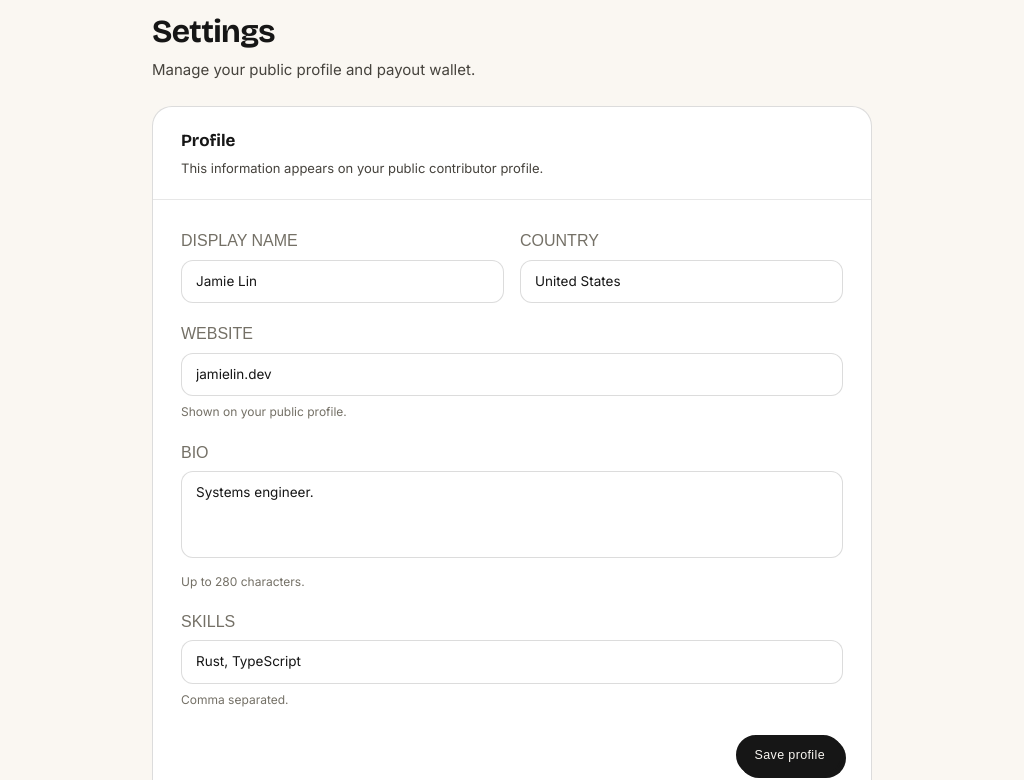
Profile form validation › rejects a malformed website
Replace the text in the field labelled "Website" with "not a url" at point(512, 375), box x1=181 y1=353 x2=843 y2=396
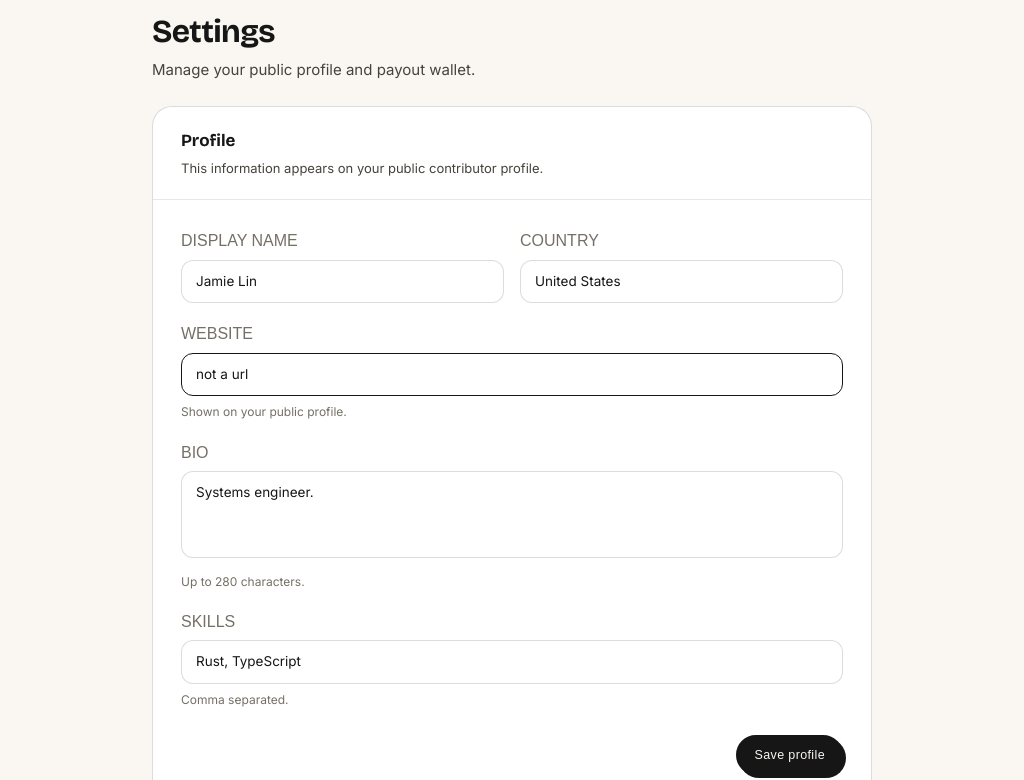
Click the button "Save profile" at point(790, 755), box x1=736 y1=735 x2=843 y2=775
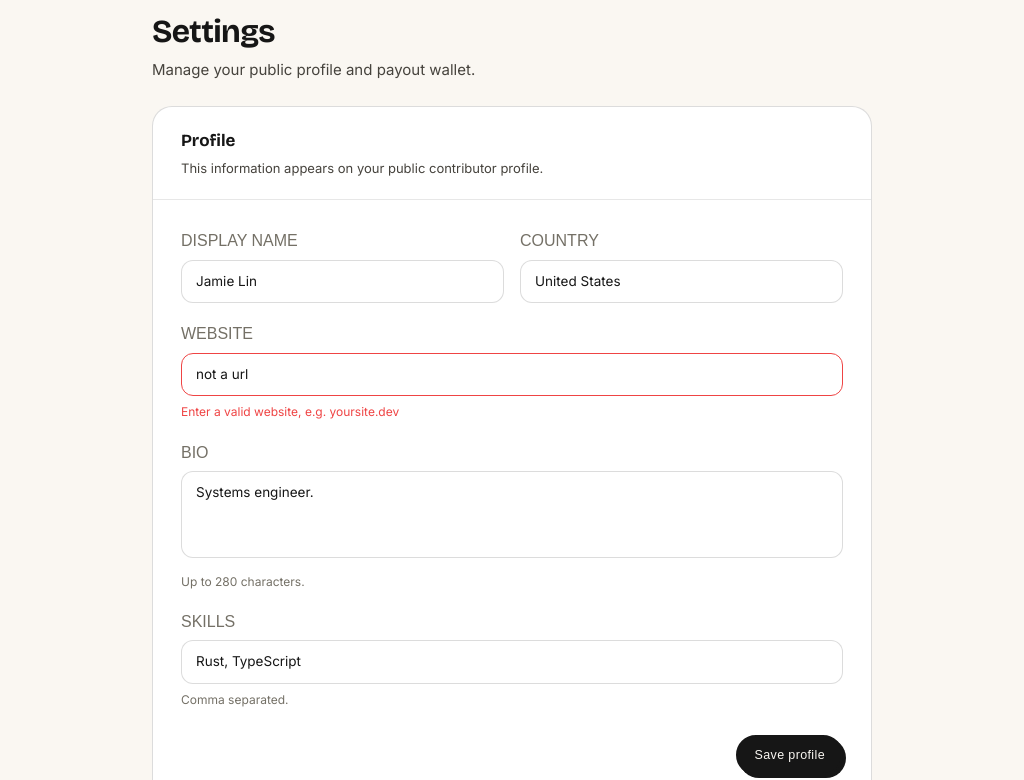
Result: the text "Enter a valid website, e.g. yoursite.dev" is shown at x1=181 y1=404 x2=399 y2=419
